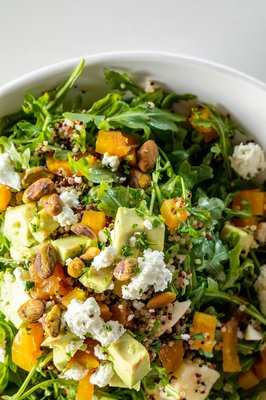sushi: (0, 52, 263, 400)
